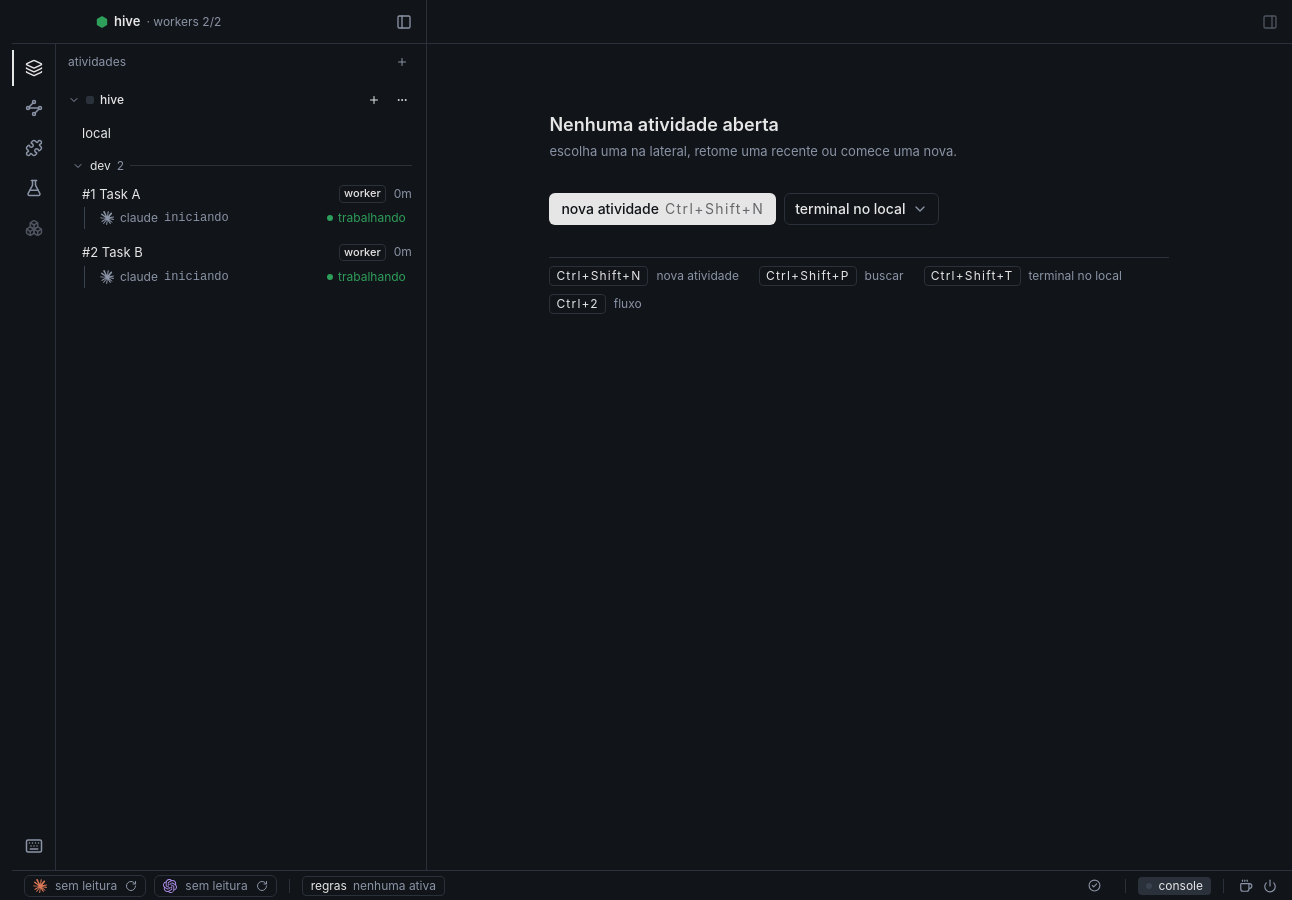
Test: a board task's abrir opens its task's activity in the center, Atividades shown (#251, #457)
This screenshot has width=1292, height=900.
Click the button named "fluxo". click: x=34, y=108
box: [12,90,56,126]
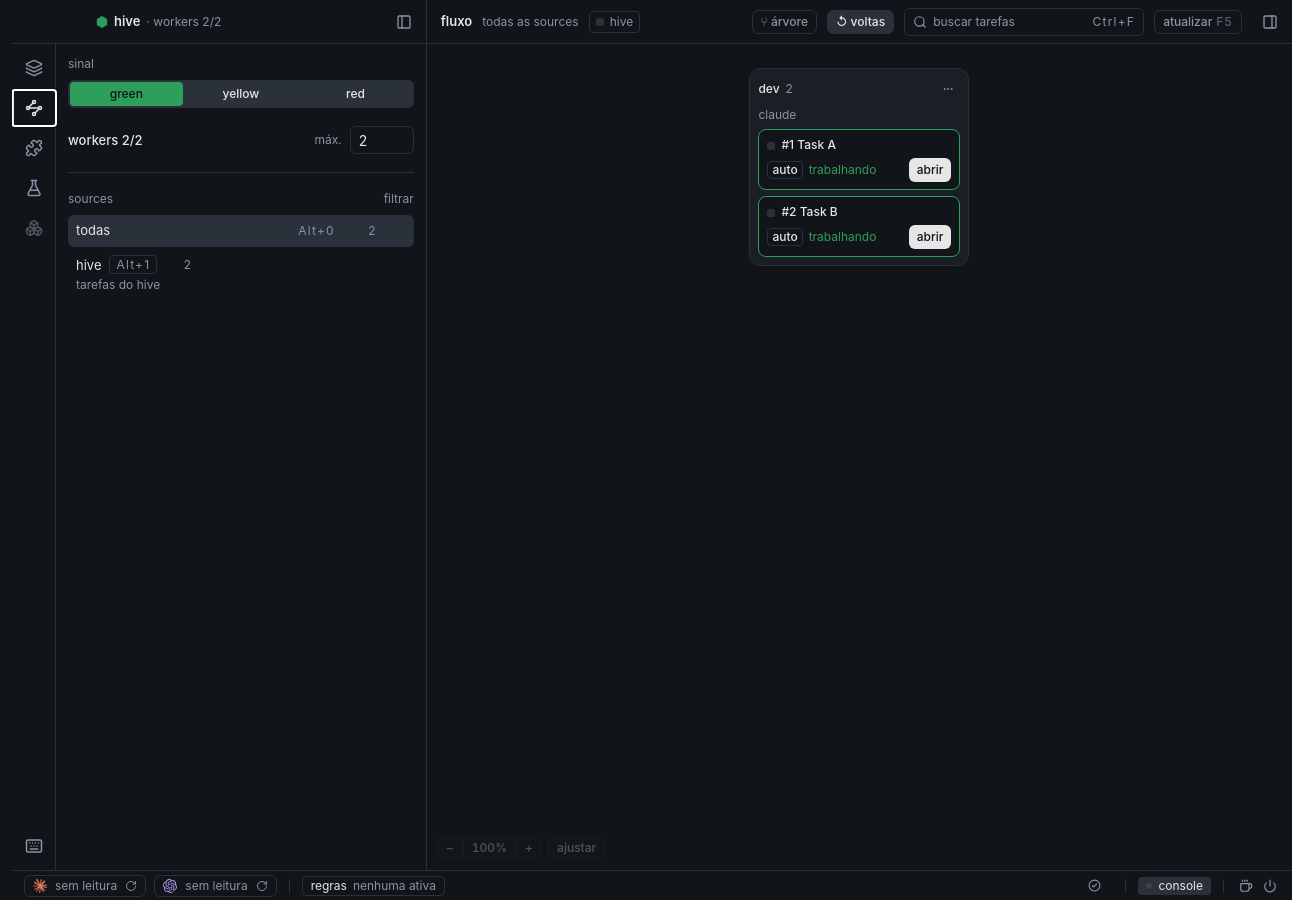
Click the button "abrir" below "#1 Task A". click: x=930, y=170
box: [909,158,951,182]
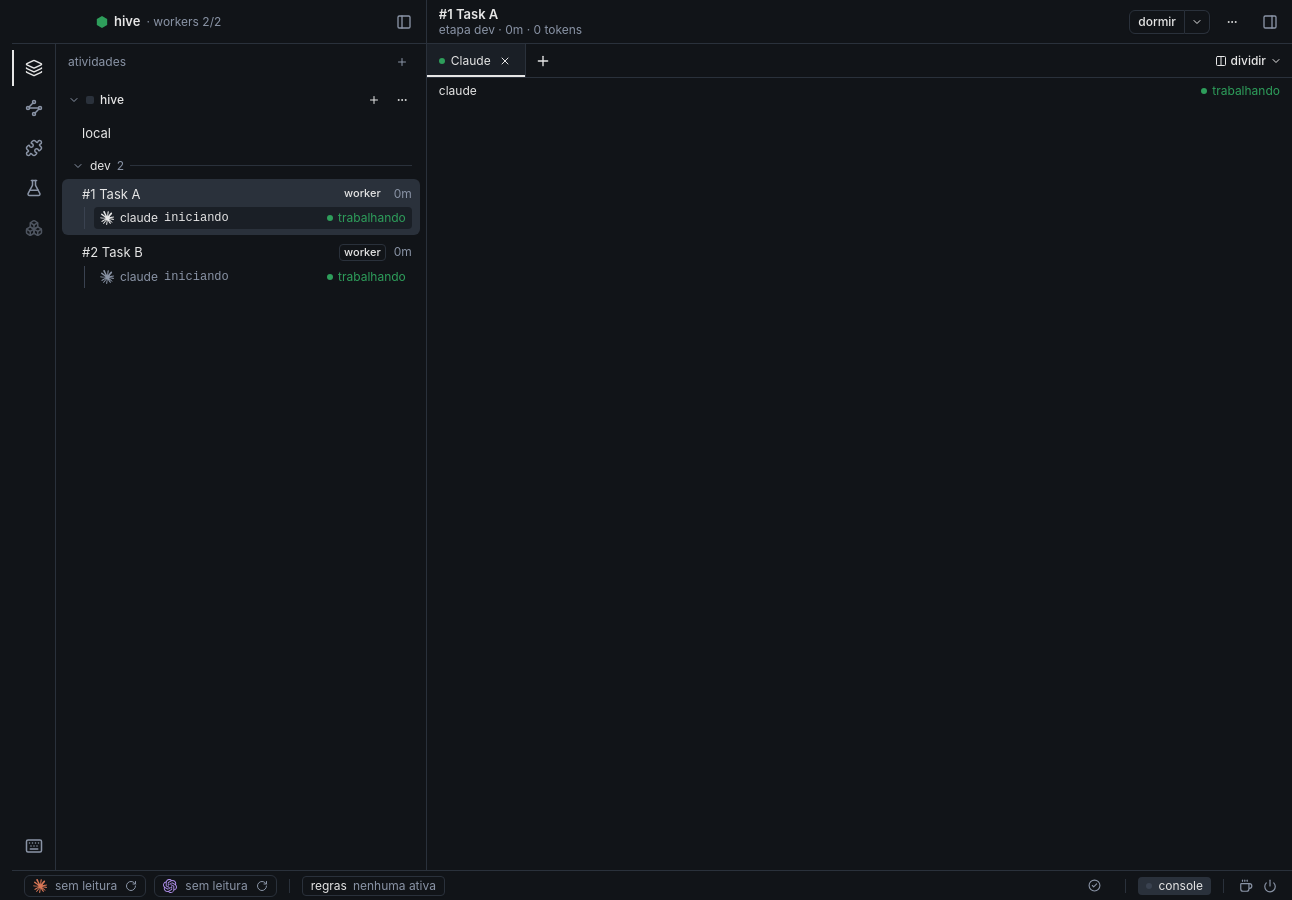
Result: the element "atividades" is shown at [62,50,420,288]
